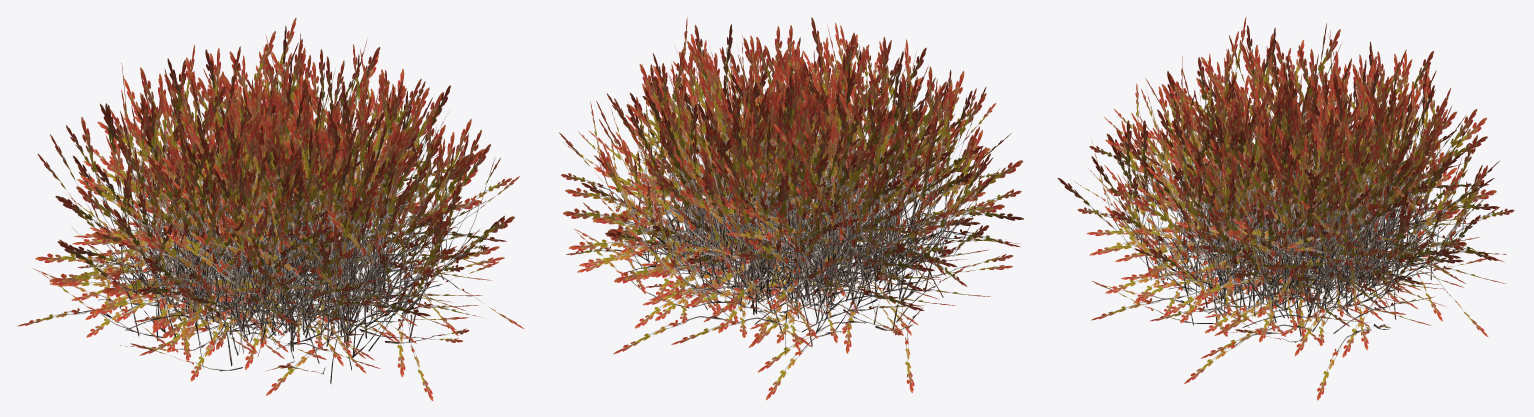
File: Fragrant_Sumac_Sedge.glb
The picture shows the model from 3 angles, left to right: view 1: azimuth 30°, elevation 25°; view 2: azimuth 150°, elevation 25°; view 3: azimuth 270°, elevation 25°; orthographic projection. The views are drawn at different scales.
Parts seen in each view (by area): view 1: narrowleaf-sedge; view 2: narrowleaf-sedge; view 3: narrowleaf-sedge.
Part boxes in pixels (left/top/right/bottom): narrowleaf-sedge: left=17, top=17, right=524, bottom=400; narrowleaf-sedge: left=559, top=17, right=1023, bottom=400; narrowleaf-sedge: left=1058, top=17, right=1514, bottom=400.
Bounding box in the file's own units: 1.97 × 1.08 × 1.97.
Materials: 1 (1 with a texture image).
